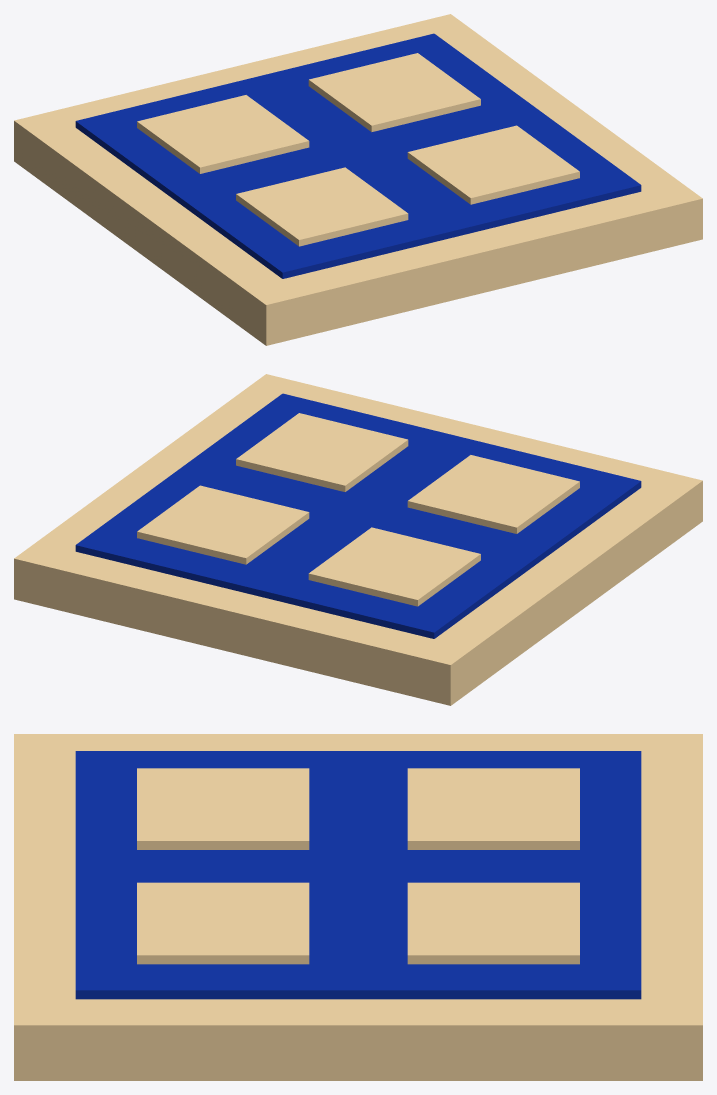
File: tiles.glb
3 renders of one model, top to bottom at view 1: azimuth 30°, elevation 25°; view 2: azimuth 150°, elevation 25°; view 3: azimuth 270°, elevation 25°, orthographic. The views are drawn at different scales.
Visible parts, largest first — view 1: tiles; view 2: tiles; view 3: tiles.
Part boxes in pixels (x1,y1,x2,y2): tiles: [14, 14, 702, 345]; tiles: [14, 374, 702, 705]; tiles: [14, 734, 702, 1080].
Bounding box in the file's own units: 0.28 × 0.033 × 0.28.
Materials: 1 (1 with a texture image).
